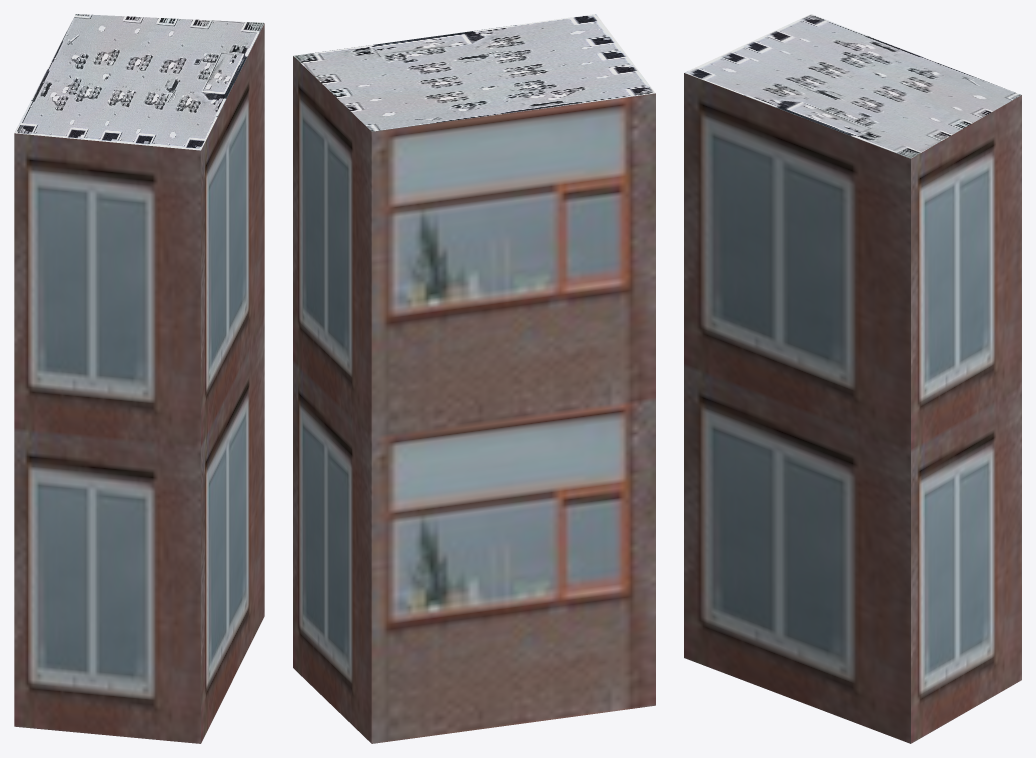
Rendered from ResTex__1694.fbx.
3 views of the same model, side by side, from view 1: azimuth 30°, elevation 25°; view 2: azimuth 150°, elevation 25°; view 3: azimuth 270°, elevation 25° (orthographic). The views are drawn at different scales.
Visible parts, largest first — view 1: CityEngineMaterial_19_m, CityEngineMaterial_15_m; view 2: CityEngineMaterial_19_m, CityEngineMaterial_15_m; view 3: CityEngineMaterial_19_m, CityEngineMaterial_15_m.
Part boxes in pixels (x1=…): CityEngineMaterial_19_m: x1=14, y1=23, x2=264, y2=743; CityEngineMaterial_15_m: x1=14, y1=14, x2=264, y2=150; CityEngineMaterial_19_m: x1=293, y1=56, x2=655, y2=743; CityEngineMaterial_15_m: x1=293, y1=14, x2=655, y2=131; CityEngineMaterial_19_m: x1=684, y1=73, x2=1021, y2=743; CityEngineMaterial_15_m: x1=684, y1=14, x2=1021, y2=158.
Bounding box in the file's own units: 3.18 × 6 × 3.14.
Materials: 2 (2 with a texture image).
